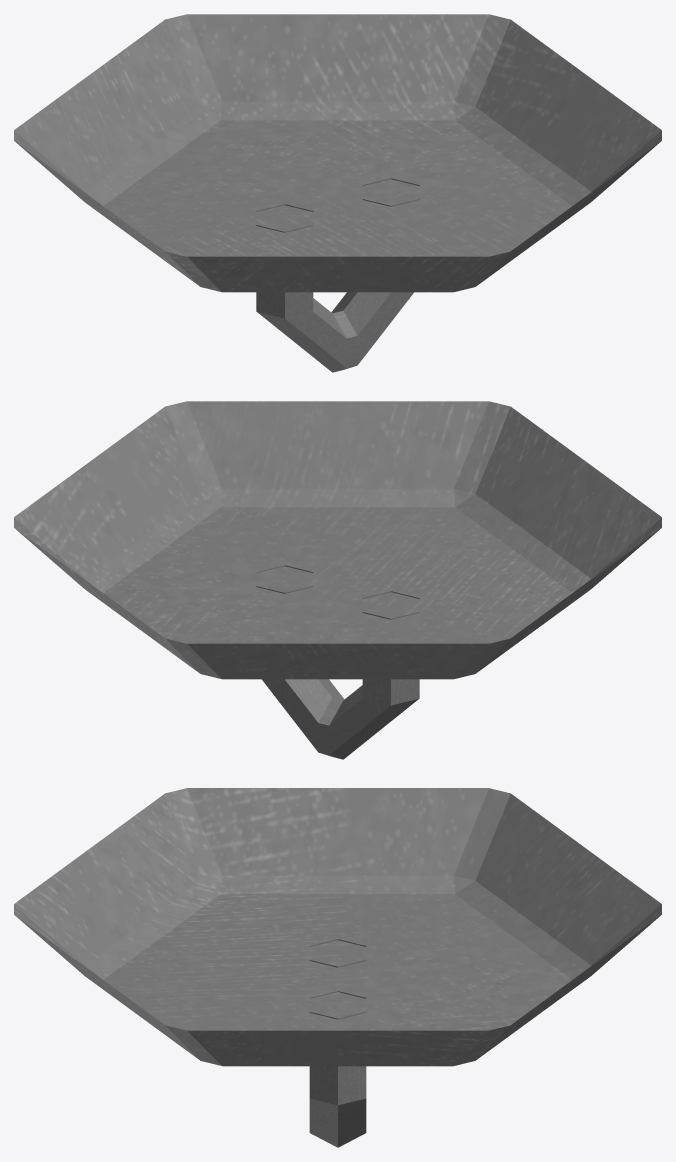
File: Chain_Holder.fbx
The picture shows the model from 3 angles, top to bottom: view 1: azimuth 30°, elevation 25°; view 2: azimuth 150°, elevation 25°; view 3: azimuth 270°, elevation 25°; orthographic projection.
Visible parts, largest first — view 1: chainholder; view 2: chainholder; view 3: chainholder.
Boxes of the visible parts, box(x1,y1,x2,y2) form: chainholder: box(14, 14, 661, 372); chainholder: box(14, 401, 661, 759); chainholder: box(14, 788, 661, 1147).
Size of the model in its own units: 73.98 by 33.56 by 83.56.
